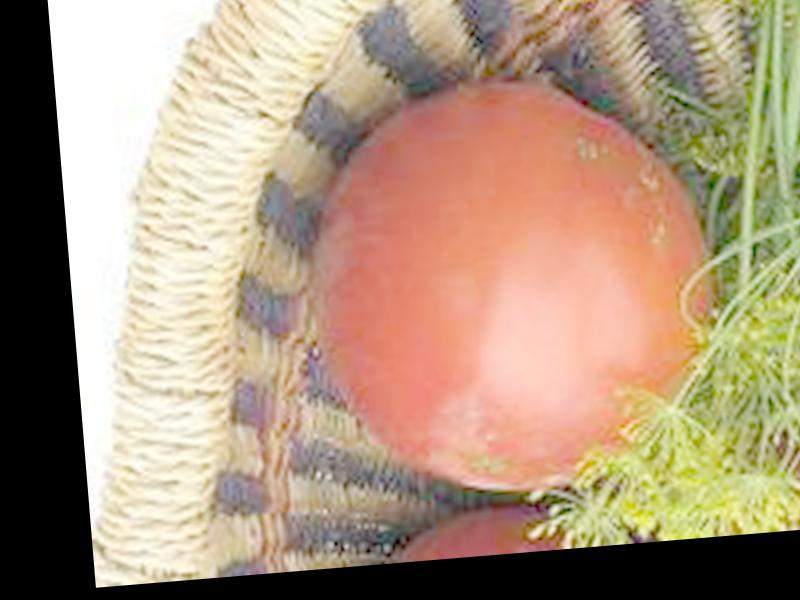Tomato: (297, 70, 731, 508)
